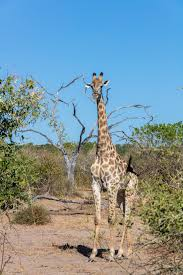Jirafa: (71, 65, 127, 140)
